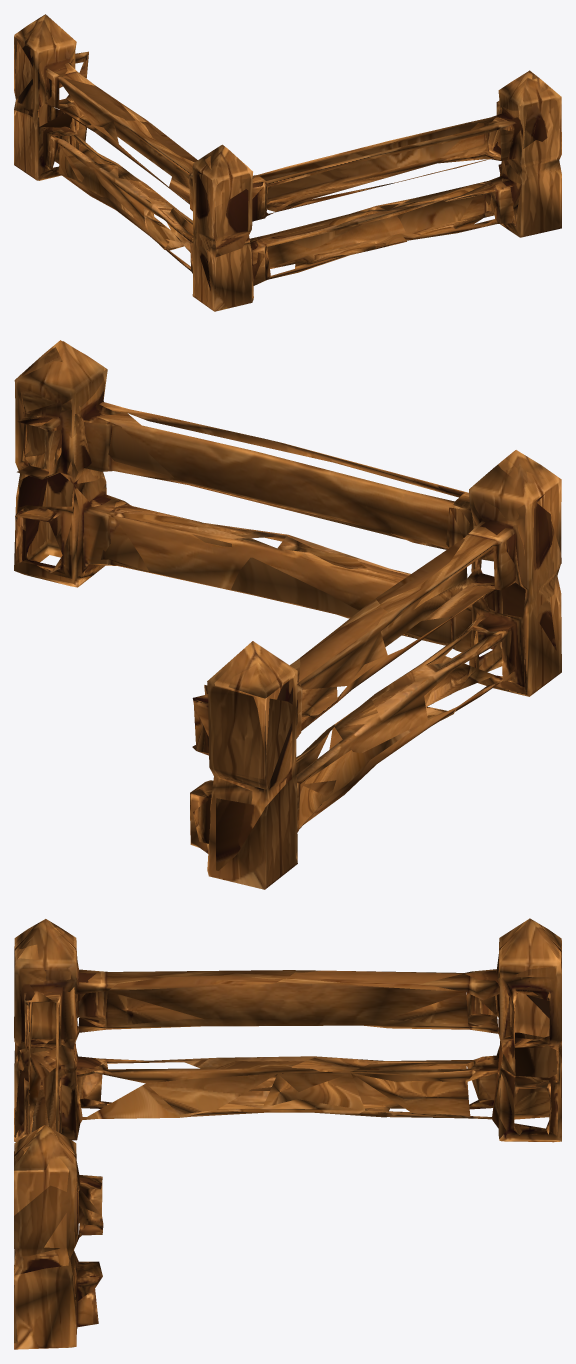
Rendered from cerca_esquina.glb.
The picture shows the model from 3 angles, top to bottom: view 1: azimuth 30°, elevation 25°; view 2: azimuth 150°, elevation 25°; view 3: azimuth 270°, elevation 25°; orthographic projection. The views are drawn at different scales.
Visible parts, largest first — view 1: cerca_esquina; view 2: cerca_esquina; view 3: cerca_esquina.
Part boxes in pixels (x1,y1,x2,y2): cerca_esquina: (14, 14, 561, 311); cerca_esquina: (14, 340, 561, 889); cerca_esquina: (14, 918, 561, 1349).
Size of the model in its own units: 3 by 1.3 by 3.
1 material, 1 textured.
